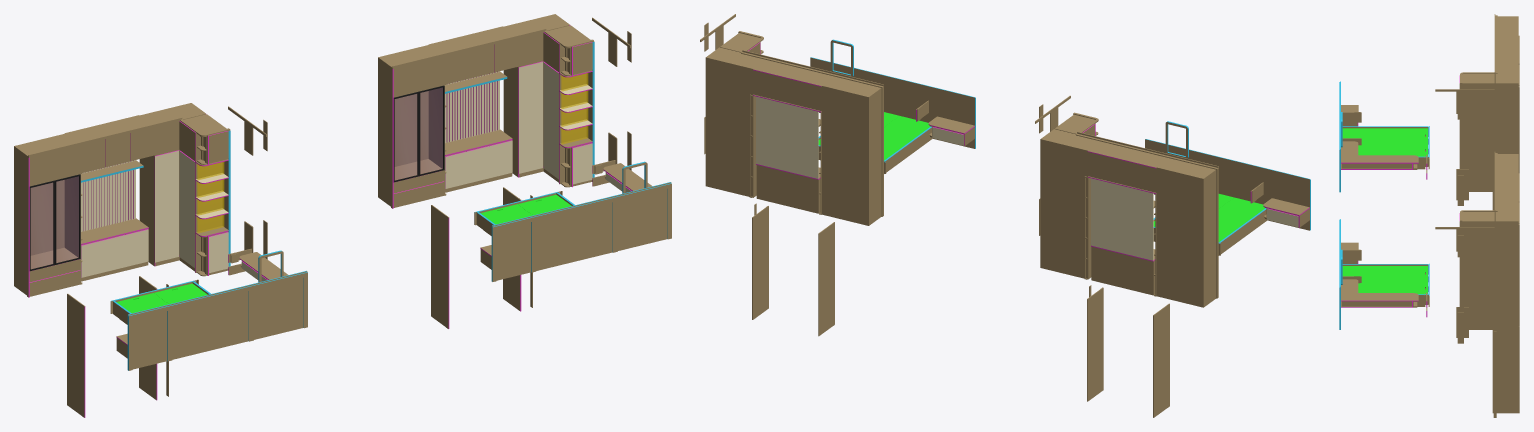
3 views of the same model, side by side, from view 1: azimuth 30°, elevation 25°; view 2: azimuth 150°, elevation 25°; view 3: azimuth 270°, elevation 25° (orthographic). The views are drawn at different scales.
Visible parts, largest first — view 1: __LYR_[Layer0]__ABF_GlassT (×4), ABF_PART_176____LYR_[Layer0]____176. Đầu giường <Chập đôi, c, ABF_PART_1426____LYR_[Layer0]____1426. Đầu giường <Chập đôi,, ABF_PART_278____LYR_[_CÁNH]____278. Hệ tủ áo - md dưới 3 - C, ABF_PART_1364____LYR_[_CÁNH]____1364. Hệ tủ áo - md dưới 3 -, ABF_PART_1209____LYR_[Layer0]____1209. Đầu giường <Chập đôi,, ABF_PART_1425____LYR_[Layer0]____1425. Đầu giường <Chập đôi,, ABF_PART_1650____LYR_[Layer0]____1650. Hệ tủ áo - md dưới 1 , ABF_PART_598____LYR_[Layer0]____598. Hệ tủ áo - md dưới 1 - , ABF_PART_1712____LYR_[Layer0]____1712. Hệ tủ áo - md dưới 1 , ABF_PART_926____LYR_[Layer0]____926. Hệ tủ áo - md dưới 1 - , ABF_PART_1235____LYR_[Layer0]____1235. Đầu giường <Chập đôi, (+49 smaller); view 2: ABF_PART_598____LYR_[Layer0]____598. Hệ tủ áo - md dưới 1 - , ABF_PART_284____LYR_[Layer0]____284. Hệ tủ áo - md dưới 3 - , ABF_PART_1564____LYR_[Layer0]____1564. Hệ tủ áo - md dưới 3 , ABF_PART_1650____LYR_[Layer0]____1650. Hệ tủ áo - md dưới 1 , ABF_PART_1372____LYR_[Layer0]____1372. Hệ tủ áo - Vách lam t, ABF_PART_399____LYR_[Layer0]____399. Hệ tủ áo - Vách lam tiv, ABF_PART_334____LYR_[Layer0]____334. Hệ tủ áo - Tủ tivi - Hậ, ABF_PART_1618____LYR_[Layer0]____1618. Hệ tủ áo - Tủ tivi - , ABF_PART_176____LYR_[Layer0]____176. Đầu giường <Chập đôi, c, ABF_PART_1426____LYR_[Layer0]____1426. Đầu giường <Chập đôi,, ABF_PART_924____LYR_[Layer0]____924. Hệ tủ áo - md dưới 3 - , ABF_PART_1701____LYR_[Layer0]____1701. Hệ tủ áo - md dưới 3  (+24 smaller); view 3: ABF_PART_1701____LYR_[Layer0]____1701. Hệ tủ áo - md dưới 3 , ABF_PART_236____LYR_[Layer0]____236. Hệ tủ áo - md dưới 4 - , ABF_PART_1584____LYR_[Layer0]____1584. Hệ tủ áo - md dưới 4 , ABF_PART_1548____LYR_[Layer0]____1548. Hệ tủ áo - md dưới 3 , ABF_PART_1179____LYR_[Layer0]____1179. Giường - Vạt giường, ABF_PART_1356____LYR_[Layer0]____1356. Giường - Vạt giường, ABF_PART_325____LYR_[Layer0]____325. Hệ tủ áo - md dưới 3 - , ABF_PART_1458____LYR_[Layer0]____1458. Bàn phấn - Nóc, ABF_PART_1268____LYR_[Layer0]____1268. Bàn phấn - Nóc, ABF_PART_1357____LYR_[Layer0]____1357. Giường - Vạt giường, ABF_PART_1147____LYR_[Layer0]____1147. Giường - Vạt giường, ABF_PART_245____LYR_[Layer0]____245. Hệ tủ áo - md trên 2 -  (+25 smaller).
Part boxes in pixels (x1,y1,x2,y2): __LYR_[Layer0]__ABF_GlassT (×4): (31, 88, 442, 268); ABF_PART_176____LYR_[Layer0]____176. Đầu giường <Chập đôi, c: (169, 284, 250, 359); ABF_PART_1426____LYR_[Layer0]____1426. Đầu giường <Chập đôi,: (533, 195, 614, 270); ABF_PART_278____LYR_[_CÁNH]____278. Hệ tủ áo - md dưới 3 - C: (154, 150, 178, 262); ABF_PART_1364____LYR_[_CÁNH]____1364. Hệ tủ áo - md dưới 3 -: (518, 61, 542, 173); ABF_PART_1209____LYR_[Layer0]____1209. Đầu giường <Chập đôi,: (251, 270, 307, 339); ABF_PART_1425____LYR_[Layer0]____1425. Đầu giường <Chập đôi,: (615, 182, 671, 250); ABF_PART_1650____LYR_[Layer0]____1650. Hệ tủ áo - md dưới 1 : (378, 86, 428, 196); ABF_PART_598____LYR_[Layer0]____598. Hệ tủ áo - md dưới 1 - : (14, 175, 64, 285); ABF_PART_1712____LYR_[Layer0]____1712. Hệ tủ áo - md dưới 1 : (431, 205, 449, 328); ABF_PART_926____LYR_[Layer0]____926. Hệ tủ áo - md dưới 1 - : (67, 293, 85, 417); ABF_PART_1235____LYR_[Layer0]____1235. Đầu giường <Chập đôi,: (127, 304, 169, 370); ABF_PART_598____LYR_[Layer0]____598. Hệ tủ áo - md dưới 1 - : (1156, 194, 1203, 307); ABF_PART_284____LYR_[Layer0]____284. Hệ tủ áo - md dưới 3 - : (1040, 165, 1088, 279); ABF_PART_1564____LYR_[Layer0]____1564. Hệ tủ áo - md dưới 3 : (705, 84, 753, 197); ABF_PART_1650____LYR_[Layer0]____1650. Hệ tủ áo - md dưới 1 : (822, 112, 868, 225); ABF_PART_1372____LYR_[Layer0]____1372. Hệ tủ áo - Vách lam t: (756, 96, 809, 176); ABF_PART_399____LYR_[Layer0]____399. Hệ tủ áo - Vách lam tiv: (1091, 178, 1143, 258); ABF_PART_334____LYR_[Layer0]____334. Hệ tủ áo - Tủ tivi - Hậ: (1091, 246, 1153, 295); ABF_PART_1618____LYR_[Layer0]____1618. Hệ tủ áo - Tủ tivi - : (756, 165, 818, 213); ABF_PART_176____LYR_[Layer0]____176. Đầu giường <Chập đôi, c: (1197, 151, 1271, 221); ABF_PART_1426____LYR_[Layer0]____1426. Đầu giường <Chập đôi,: (862, 70, 937, 139); ABF_PART_924____LYR_[Layer0]____924. Hệ tủ áo - md dưới 3 - : (1087, 287, 1103, 401); ABF_PART_1701____LYR_[Layer0]____1701. Hệ tủ áo - md dưới 3 : (752, 206, 768, 319); ABF_PART_1701____LYR_[Layer0]____1701. Hệ tủ áo - md dưới 3 : (1492, 326, 1519, 413); ABF_PART_236____LYR_[Layer0]____236. Hệ tủ áo - md dưới 4 - : (1470, 105, 1494, 191); ABF_PART_1584____LYR_[Layer0]____1584. Hệ tủ áo - md dưới 4 : (1470, 243, 1494, 329); ABF_PART_1548____LYR_[Layer0]____1548. Hệ tủ áo - md dưới 3 : (1495, 243, 1518, 329); ABF_PART_1179____LYR_[Layer0]____1179. Giường - Vạt giường: (1342, 128, 1427, 142); ABF_PART_1356____LYR_[Layer0]____1356. Giường - Vạt giường: (1342, 266, 1427, 280); ABF_PART_325____LYR_[Layer0]____325. Hệ tủ áo - md dưới 3 - : (1495, 105, 1518, 153); ABF_PART_1458____LYR_[Layer0]____1458. Bàn phấn - Nóc: (1341, 279, 1418, 301); ABF_PART_1268____LYR_[Layer0]____1268. Bàn phấn - Nóc: (1341, 141, 1418, 163); ABF_PART_1357____LYR_[Layer0]____1357. Giường - Vạt giường: (1358, 280, 1427, 294); ABF_PART_1147____LYR_[Layer0]____1147. Giường - Vạt giường: (1358, 143, 1427, 156); ABF_PART_245____LYR_[Layer0]____245. Hệ tủ áo - md trên 2 - : (1497, 35, 1519, 64).
Bounding box in the file's own units: 11.9 × 5.41 × 4.13.
10 materials, 2 textured.
